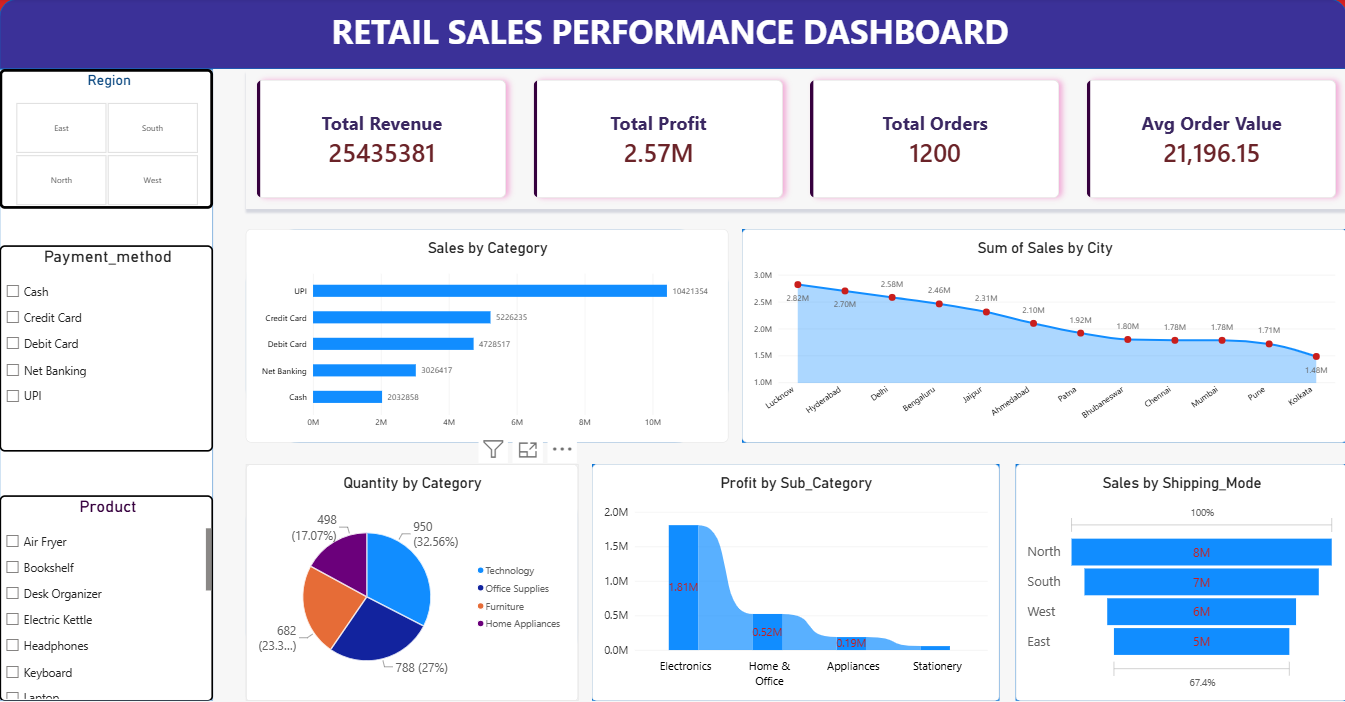

Layout of this report page (visuals, bound fields, positions):
{"tool":"powerbi","page":{"name":"Page 1","canvas":[2000,1080],"ordinal":0},"visuals":[{"type":"cardVisual","fields":{"Data":["sales_data retail_sales_analyst_project.Total Revenue","sales_data retail_sales_analyst_project.Total Profit","sales_data retail_sales_analyst_project.Total Orders","sales_data retail_sales_analyst_project.Avg Order Value"]},"box":[383.4,101.7,1600.7,203.5],"z":0},{"type":"shape","box":[25.4,0,1958.6,101.7],"z":1000},{"type":"textbox","box":[83.6,12.7,1833.2,89],"z":2000},{"type":"shape","box":[383.4,334.3,701.3,310.7],"z":2001},{"type":"barChart","title":"Sales by Category","fields":{"Category":["sales_data retail_sales_analyst_project.Payment_Mode"],"Y":["Sum(sales_data retail_sales_analyst_project.Sales)"]},"box":[383.4,334.3,701.3,310.7],"z":2002},{"type":"shape","box":[1104.7,334.3,879.4,310.7],"z":2003},{"type":"areaChart","fields":{"Category":["sales_data retail_sales_analyst_project.City"],"Y":["Sum(sales_data retail_sales_analyst_project.Sales)"]},"box":[1104.7,334.3,879.4,310.7],"z":2004},{"type":"shape","box":[383.4,675.9,483.3,327],"z":2005},{"type":"pieChart","title":" Quantity by Category","fields":{"Category":["sales_data retail_sales_analyst_project.Category"],"Y":["Sum(sales_data retail_sales_analyst_project.Quantity)"]},"box":[383.4,675.9,483.3,345.2],"z":2006},{"type":"shape","box":[886.6,675.9,592.3,345.2],"z":2007},{"type":"ribbonChart","title":" Profit by Sub_Category","fields":{"Category":["sales_data retail_sales_analyst_project.Sub_Category"],"Y":["Sum(sales_data retail_sales_analyst_project.Profit)"]},"box":[886.6,675.9,592.3,345.2],"z":2008},{"type":"shape","box":[1502.5,675.9,481.5,345.2],"z":2009},{"type":"funnel","title":"Sales by Shipping_Mode","fields":{"Category":["sales_data retail_sales_analyst_project.Region"],"Y":["Sum(sales_data retail_sales_analyst_project.Sales)"]},"box":[1502.5,675.9,481.5,345.2],"z":2010},{"type":"shape","box":[25.4,101.7,310.7,919.3],"z":2011},{"type":"slicer","title":"Region","fields":{"Values":["sales_data retail_sales_analyst_project.Region"]},"box":[25.4,101.7,310.7,203.5],"z":2012},{"type":"slicer","title":"Payment_method","fields":{"Values":["sales_data retail_sales_analyst_project.Payment_Mode"]},"box":[25.4,357.9,310.7,299.8],"z":2013},{"type":"slicer","title":"Product","fields":{"Values":["sales_data retail_sales_analyst_project.Product"]},"box":[25.4,721.3,310.7,299.8],"z":2014}]}

Visuals, with their boxes on the page's 2000x1080 design canvas (x1, y1, x2, y2). These are canvas units, not pixel positions in the 1345x702 screenshot, which may show the page scaled, cropped or inside an application window:
cardVisual - sales_data retail_sales_analyst_project.Total Revenue x sales_data retail_sales_analyst_project.Total Profit: 383,102,1984,305
shape: 25,0,1984,102
textbox: 84,13,1917,102
shape: 383,334,1085,645
"Sales by Category" barChart: 383,334,1085,645
shape: 1105,334,1984,645
areaChart - sales_data retail_sales_analyst_project.City x Sum(sales_data retail_sales_analyst_project.Sales): 1105,334,1984,645
shape: 383,676,867,1003
" Quantity by Category" pieChart: 383,676,867,1021
shape: 887,676,1479,1021
" Profit by Sub_Category" ribbonChart: 887,676,1479,1021
shape: 1502,676,1984,1021
"Sales by Shipping_Mode" funnel: 1502,676,1984,1021
shape: 25,102,336,1021
"Region" slicer: 25,102,336,305
"Payment_method" slicer: 25,358,336,658
"Product" slicer: 25,721,336,1021
